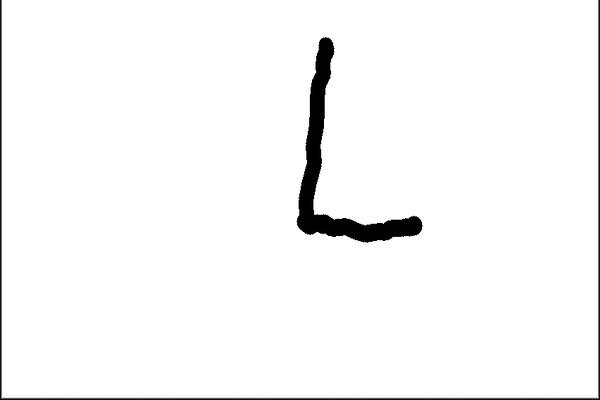L: (289, 30, 426, 249)
